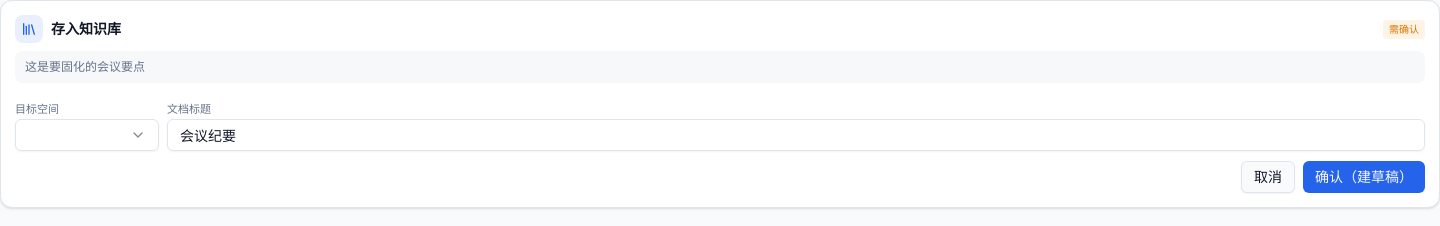
对话固化确认卡 › 选空间 + 标题 → 确认 → confirmActionV2({spaceId,title}) → 已存草稿
expect the text "这是要固化的会议要点" is shown: met, box [15, 51, 1425, 83]
expect the field named "文档标题" holds "会议纪要": met, box [167, 119, 1425, 151]
Note: 等空间加载完成（默认 101 可编）后确认
Click the button "确认（建草稿）": [1364, 177] box [1303, 161, 1425, 193]
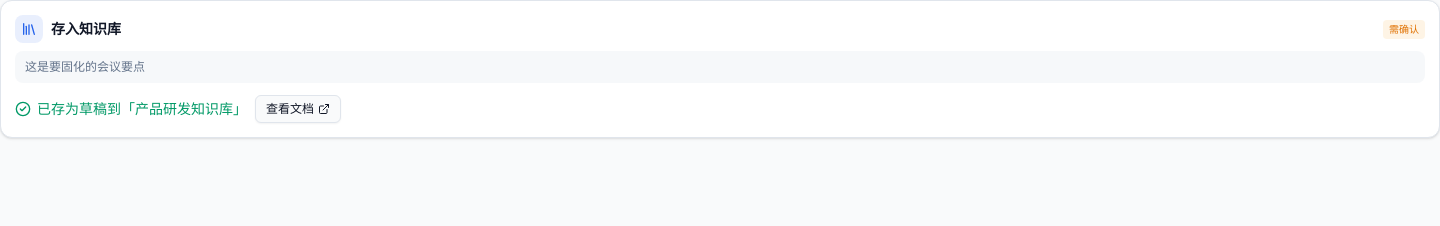
expect the text "已存为草稿" is shown: met, box [37, 100, 107, 117]
expect the button "查看文档" is shown: met, box [255, 95, 341, 123]
